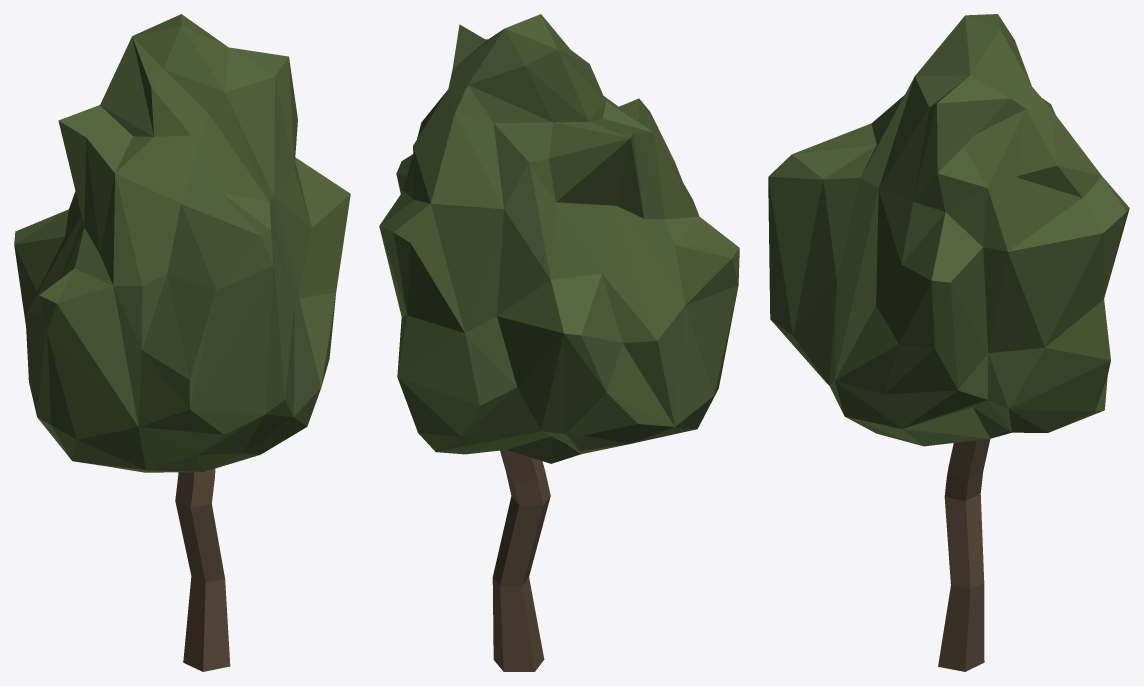
File: Tree_071.fbx
The picture shows the model from 3 angles, left to right: view 1: azimuth 30°, elevation 25°; view 2: azimuth 150°, elevation 25°; view 3: azimuth 270°, elevation 25°; orthographic projection. The views are drawn at different scales.
Visible parts, largest first — view 1: Tree_071; view 2: Tree_071; view 3: Tree_071.
Part boxes in pixels (<box>): Tree_071: <box>14,14,350,671</box>; Tree_071: <box>379,14,739,671</box>; Tree_071: <box>768,14,1129,671</box>.
Bounding box in the file's own units: 1.04 × 2.01 × 1.04.
Materials: 1 (1 with a texture image).
